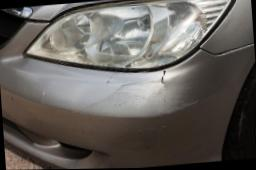Bumper: (82, 59, 208, 136)
